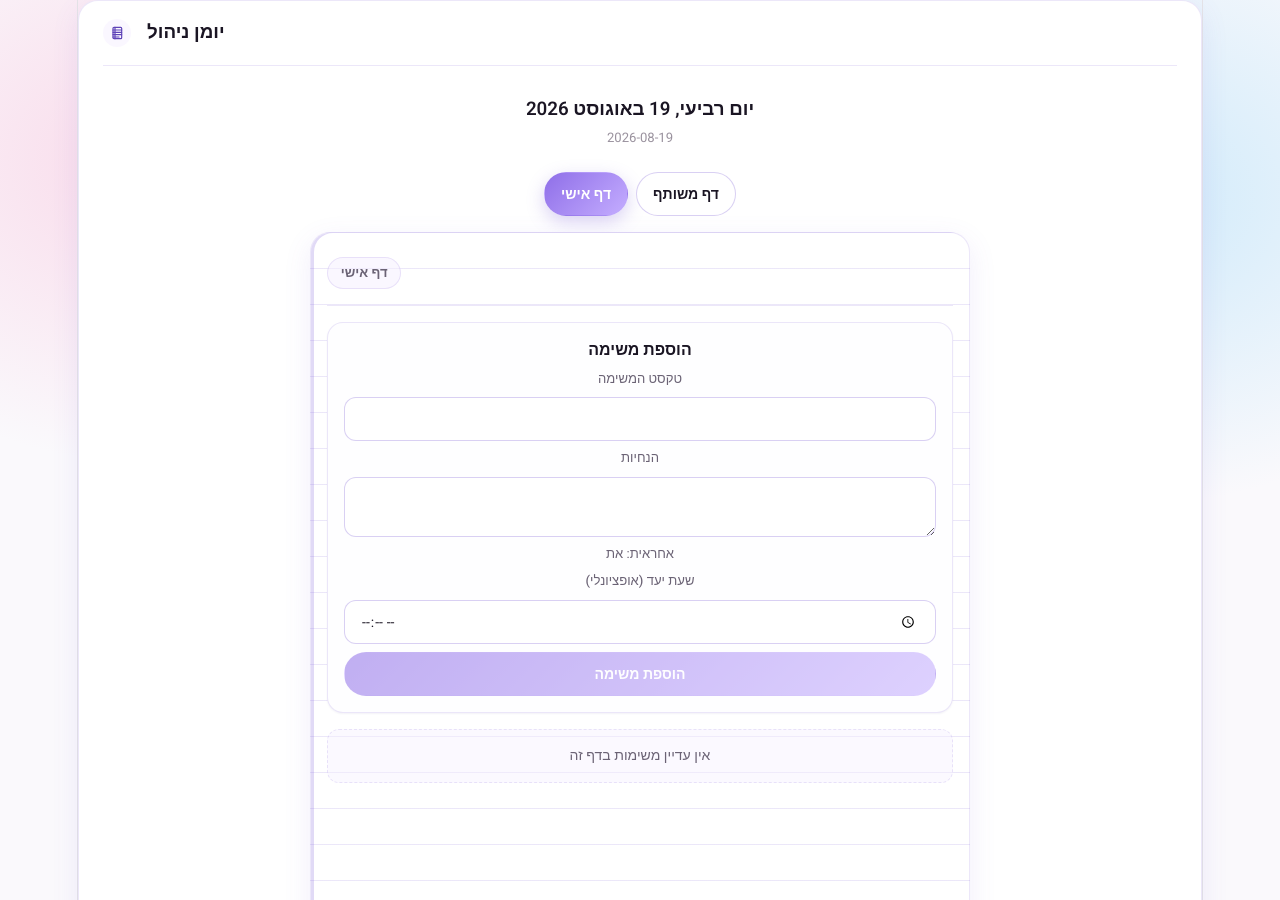
it: ManagementJournalSection J2A › lets a participating secretary open today shared page via RLS SELECT without create RPC
Expected: the radio button labelled "דף אישי" is shown, [544,172,628,216]
Click the radio button labelled "דף משותף": (686, 194) [636,172,736,216]
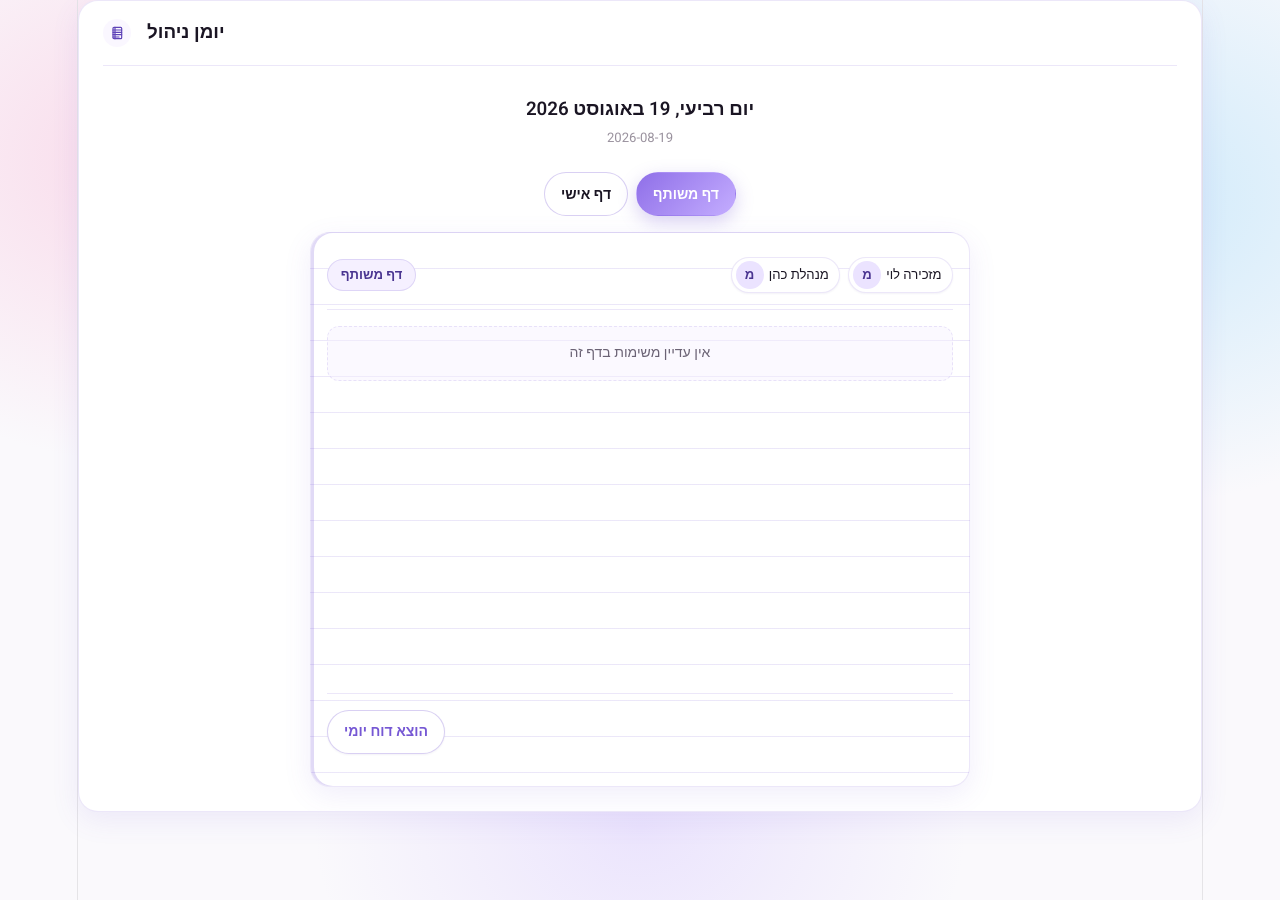
Expected: the text "דף משותף" is shown, [327,260,416,292]
Expected: the form with test id "journal-add-task-composer" is gone
Expected: the heading "הוספת משימה" is gone
